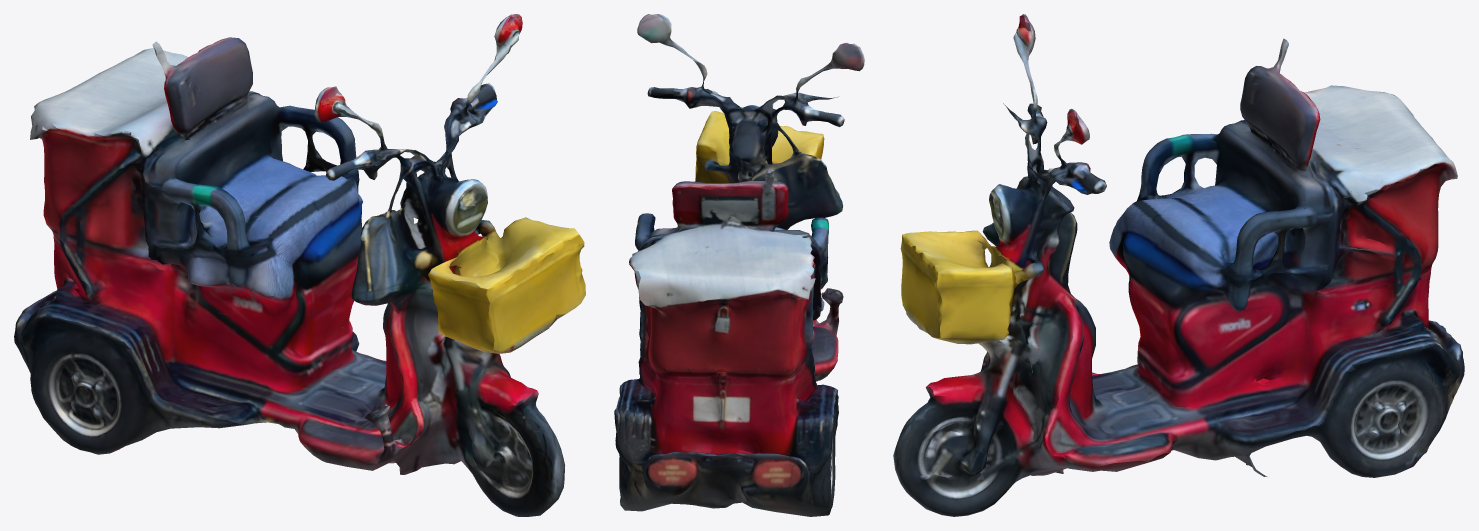
The model's file is bike.gltf.
The picture shows the model from 3 angles, left to right: view 1: azimuth 30°, elevation 25°; view 2: azimuth 150°, elevation 25°; view 3: azimuth 270°, elevation 25°; orthographic projection. The views are drawn at different scales.
Visible parts, largest first — view 1: Default; view 2: Default; view 3: Default.
Part boxes in pixels (x1,y1,x2,y2): Default: (14,14,585,516); Default: (614,14,864,516); Default: (893,14,1464,516).
Bounding box in the file's own units: 0.00628 × 0.00726 × 0.00875.
Materials: 1 (1 with a texture image).
